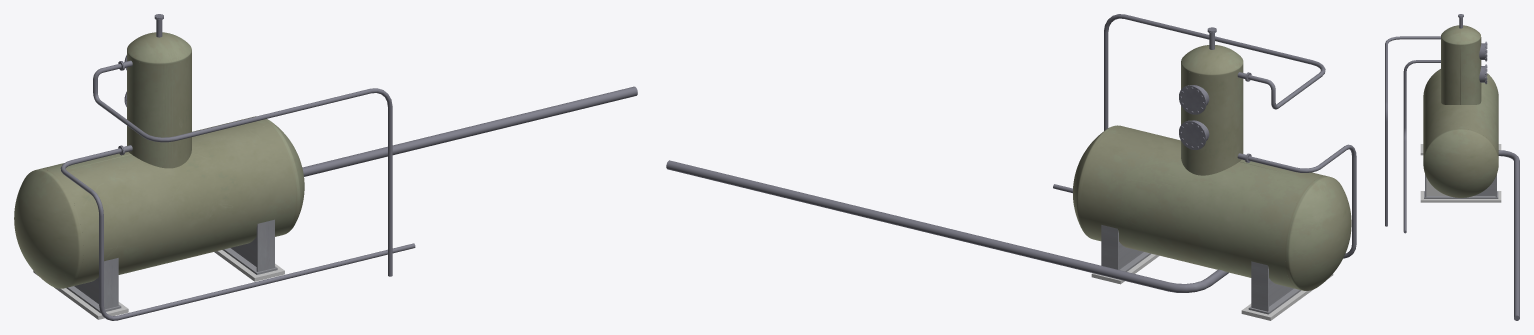
Rendered from Деаэратор_новый_ready.obj.
3 renders of one model, left to right at view 1: azimuth 30°, elevation 25°; view 2: azimuth 150°, elevation 25°; view 3: azimuth 270°, elevation 25°, orthographic. The views are drawn at different scales.
Parts seen in each view (by area): view 1: Цилиндр.826, Цилиндр.033, Цилиндр.035, Цилиндр.034, Куб.205, Куб.211, Куб.210, Куб.062, Куб.152, Куб.061, Куб.060; view 2: Цилиндр.826, Цилиндр.035, Куб.205, Куб.210, Куб.152, Куб.062, Куб.211, Цилиндр.033, Цилиндр.031, Цилиндр.030; view 3: Цилиндр.826, Цилиндр.033, Цилиндр.035, Цилиндр.034, Куб.205, Куб.211, Куб.210, Куб.062, Куб.061, Цилиндр.031, Цилиндр.030.
Part boxes in pixels (x1=…): Цилиндр.826: x1=14, y1=116, x2=298, y2=288; Цилиндр.033: x1=51, y1=120, x2=304, y2=287; Цилиндр.035: x1=127, y1=32, x2=180, y2=168; Цилиндр.034: x1=157, y1=35, x2=191, y2=168; Куб.205: x1=302, y1=86, x2=637, y2=176; Куб.211: x1=60, y1=148, x2=415, y2=320; Куб.210: x1=93, y1=63, x2=392, y2=276; Куб.062: x1=214, y1=224, x2=284, y2=281; Куб.152: x1=33, y1=271, x2=128, y2=319; Куб.061: x1=257, y1=219, x2=274, y2=271; Куб.060: x1=104, y1=258, x2=128, y2=313; Цилиндр.826: x1=1073, y1=125, x2=1351, y2=290; Цилиндр.035: x1=1181, y1=45, x2=1243, y2=175; Куб.205: x1=666, y1=160, x2=1228, y2=292; Куб.210: x1=1104, y1=14, x2=1325, y2=130; Куб.152: x1=1241, y1=261, x2=1333, y2=320; Куб.062: x1=1091, y1=225, x2=1159, y2=284; Куб.211: x1=1053, y1=144, x2=1356, y2=258; Цилиндр.033: x1=1106, y1=125, x2=1328, y2=180; Цилиндр.031: x1=1179, y1=85, x2=1209, y2=114; Цилиндр.030: x1=1179, y1=120, x2=1209, y2=149; Цилиндр.826: x1=1423, y1=69, x2=1498, y2=197; Цилиндр.033: x1=1423, y1=69, x2=1460, y2=197; Цилиндр.035: x1=1441, y1=25, x2=1481, y2=104; Цилиндр.034: x1=1441, y1=27, x2=1460, y2=104; Куб.205: x1=1498, y1=150, x2=1519, y2=320; Куб.211: x1=1403, y1=60, x2=1440, y2=233; Куб.210: x1=1385, y1=36, x2=1440, y2=226; Куб.062: x1=1420, y1=174, x2=1501, y2=202; Куб.061: x1=1420, y1=174, x2=1460, y2=202; Цилиндр.031: x1=1479, y1=41, x2=1487, y2=61; Цилиндр.030: x1=1479, y1=64, x2=1487, y2=84.
Size of the model in its own units: 25.16 by 9.44 by 7.24.
